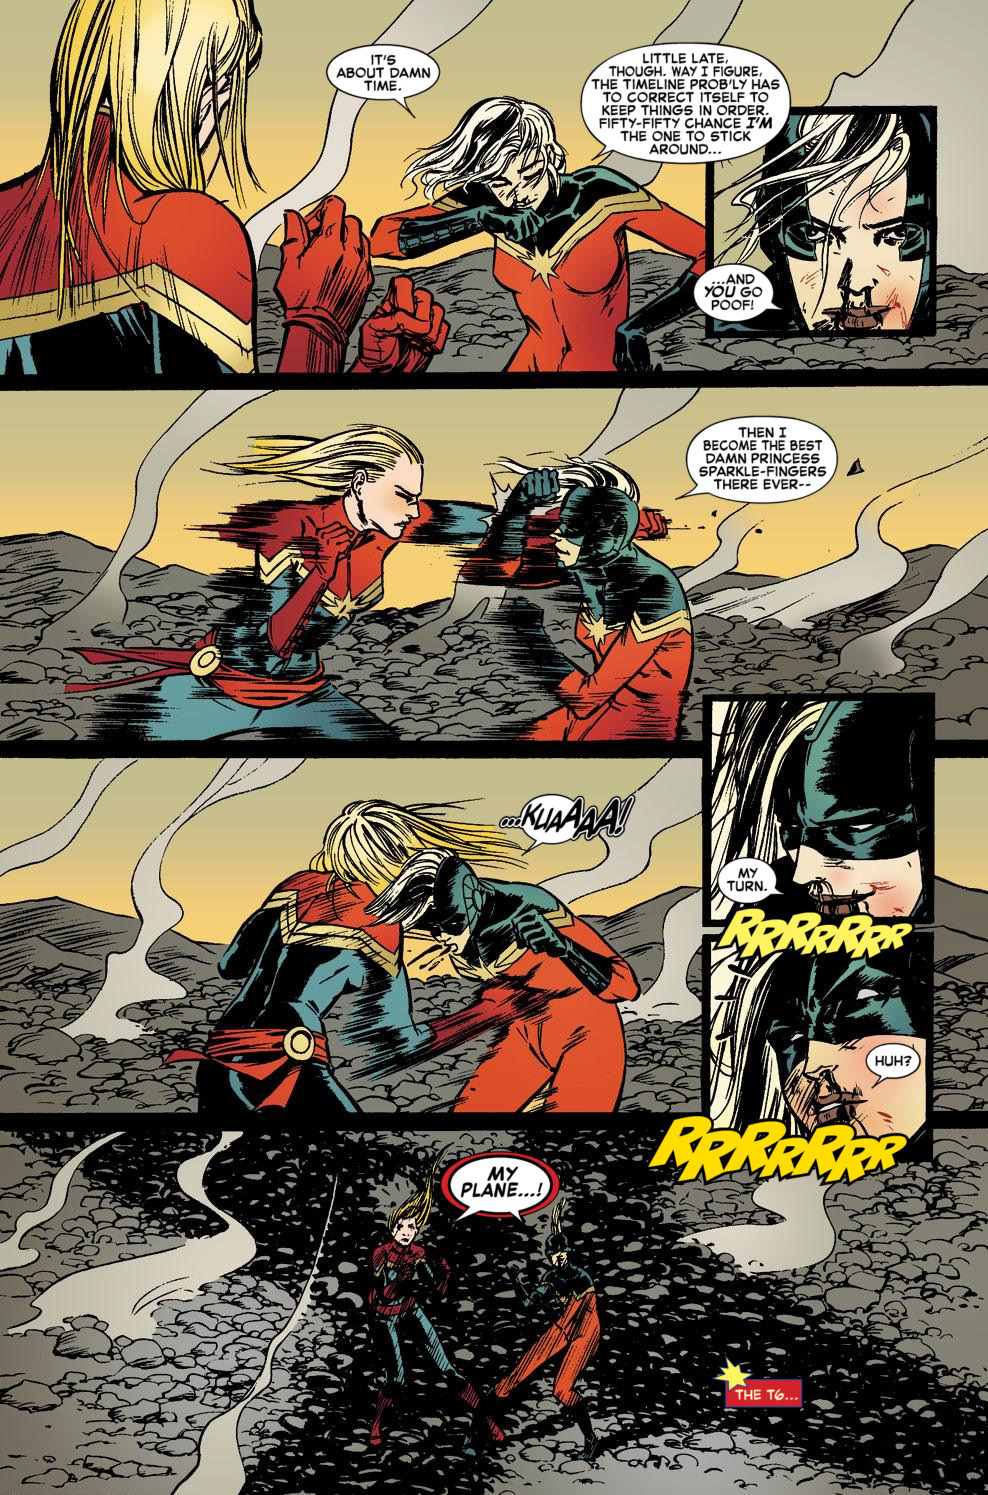Baloon: (579, 45, 794, 165), (658, 1106, 913, 1193), (679, 420, 829, 504), (422, 1146, 563, 1234), (722, 902, 919, 961), (326, 26, 451, 118), (508, 790, 631, 847), (694, 263, 785, 313), (717, 1363, 808, 1409), (719, 854, 785, 908), (863, 1034, 917, 1088)
Vignetta: (4, 2, 987, 375), (4, 1129, 987, 1494), (1, 386, 987, 743), (4, 761, 987, 1111), (701, 936, 933, 1168), (701, 695, 933, 922)
